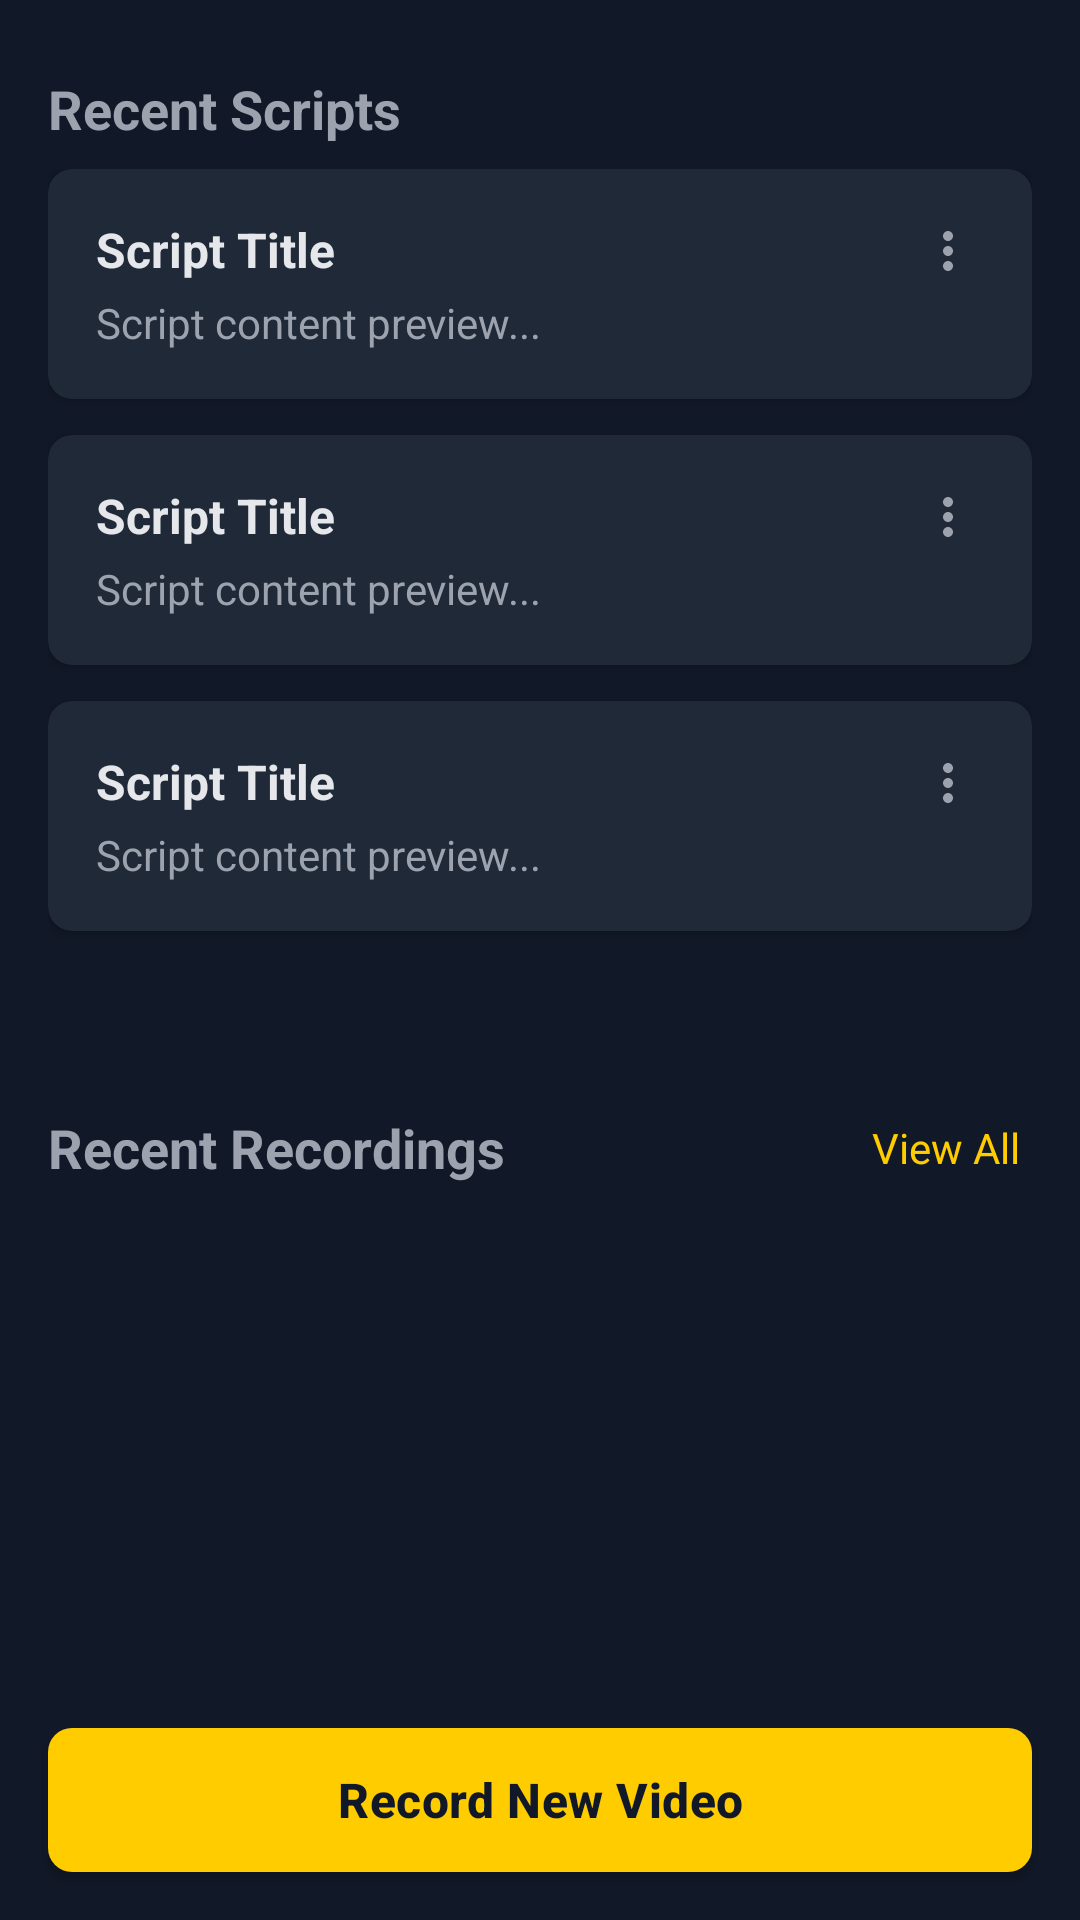

Point at icon controls on the screen. Image size 1080×1920, points as point (x, y).
More options: point (948, 251), point (948, 517), point (948, 783)
